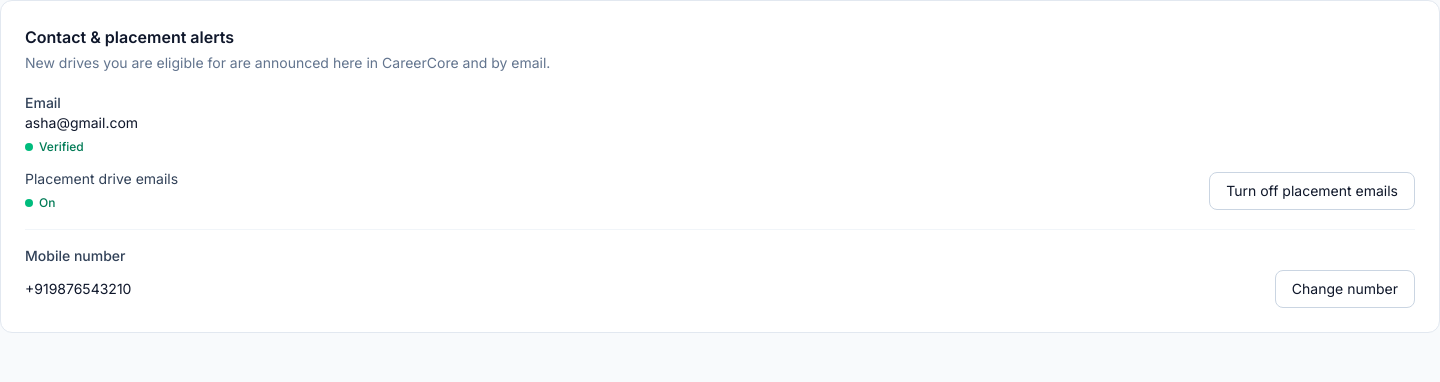
Scenario: contact & alerts section › email-only server: no WhatsApp anywhere; placement emails can be turned off and on; the mobile number can be changed
Check: the text "asha@gmail.com" is shown, box [25,113,138,133]
Check: the text "announced here in CareerCore and by email." is shown, box [25,54,550,71]
Click the button "Turn off placement emails" at (1312, 191), box [1209,172,1415,210]
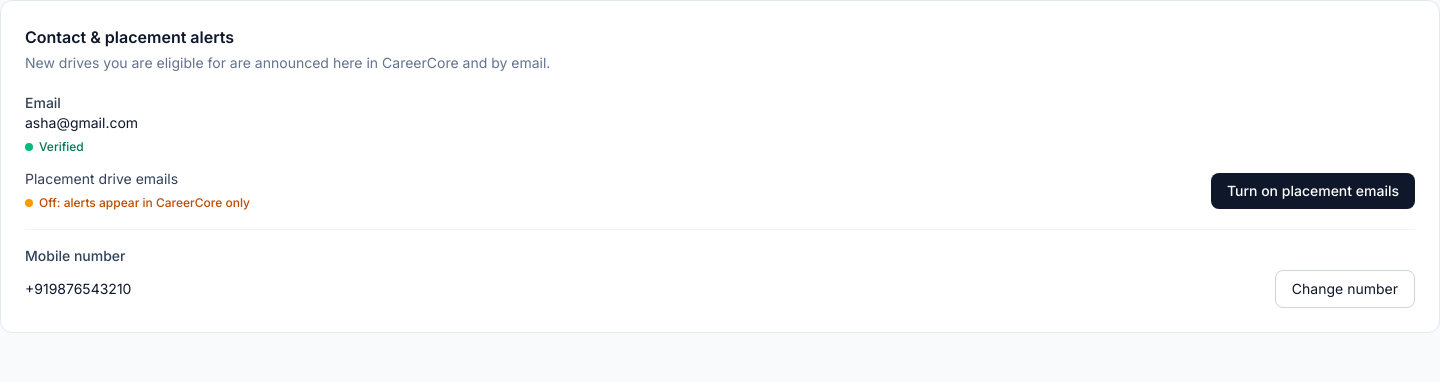
Check: the text "Off: alerts appear in CareerCore only" is shown, box [25,195,250,211]
Click the button "Turn on placement emails" at (1313, 191), box [1211,173,1415,209]
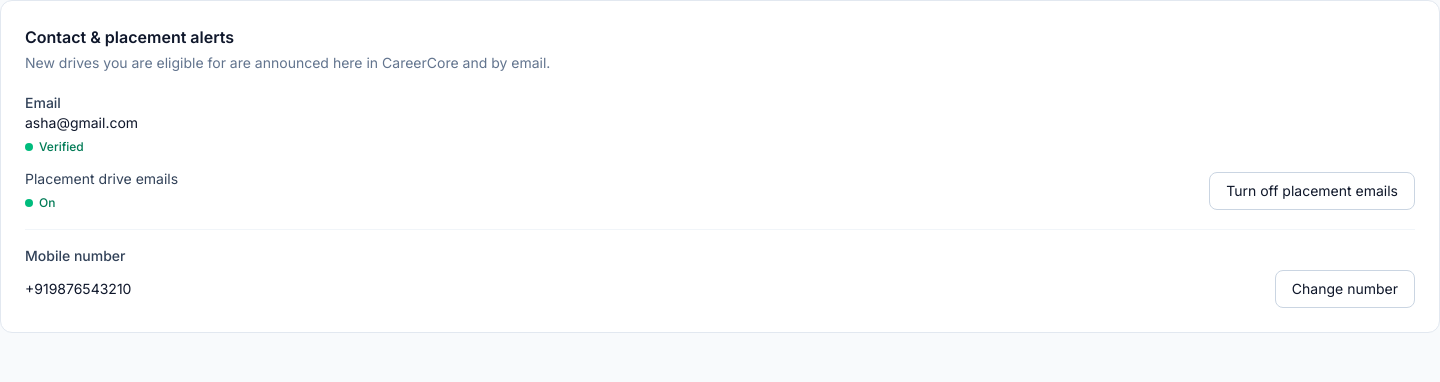
Check: the text "+919876543210" is shown, box [25,279,131,299]
Check: the button "Turn off placement emails" is shown, box [1209,172,1415,210]
Click the button "Change number" at (1345, 289), box [1275,270,1415,308]
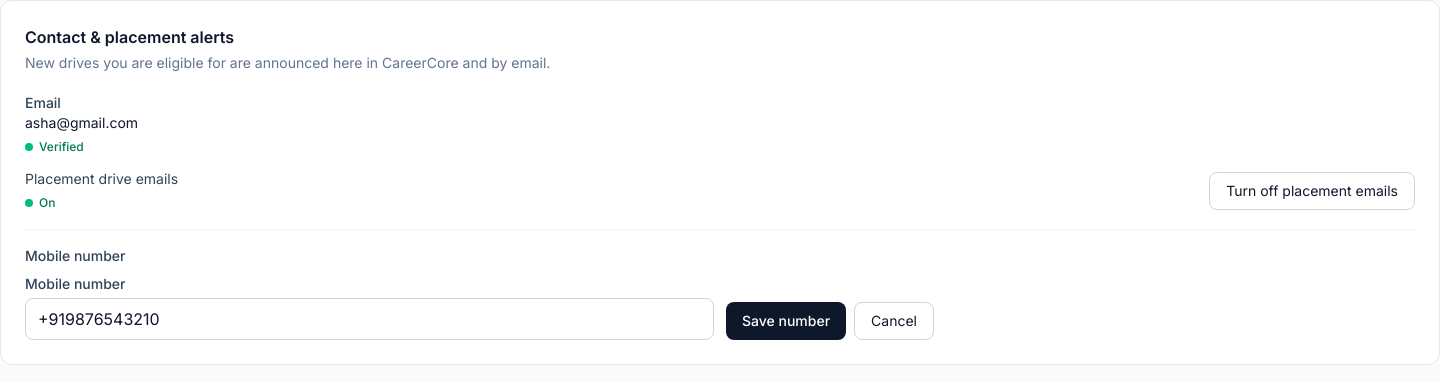
Replace the text in the field labelled "Mobile number" with "+91 91234 56789" at (370, 319), box [25,298,714,340]
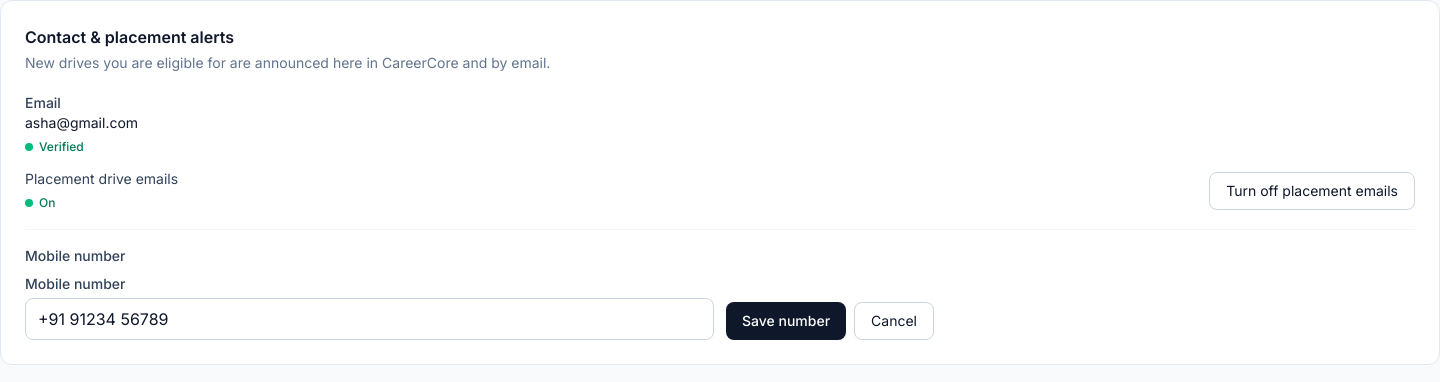
Click the button "Save number" at (786, 321), box [726,302,846,340]
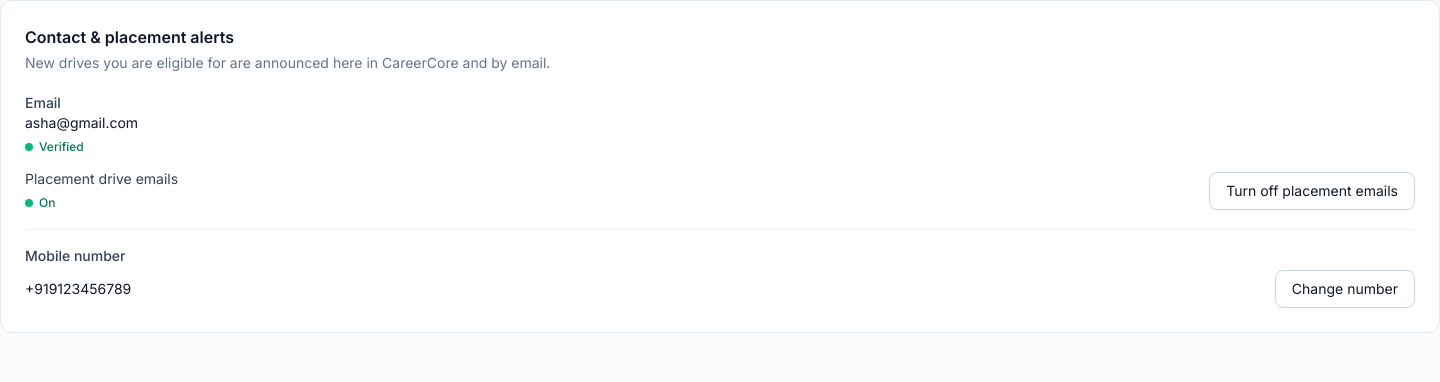
Check: the text "+919123456789" is shown, box [25,279,131,299]
